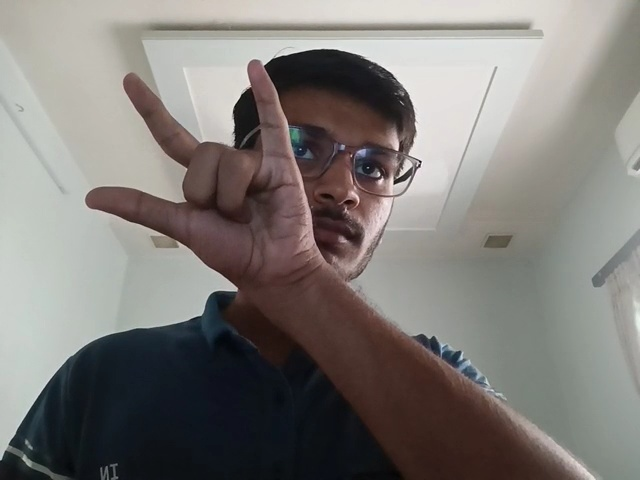I Love You: (79, 55, 333, 310)
